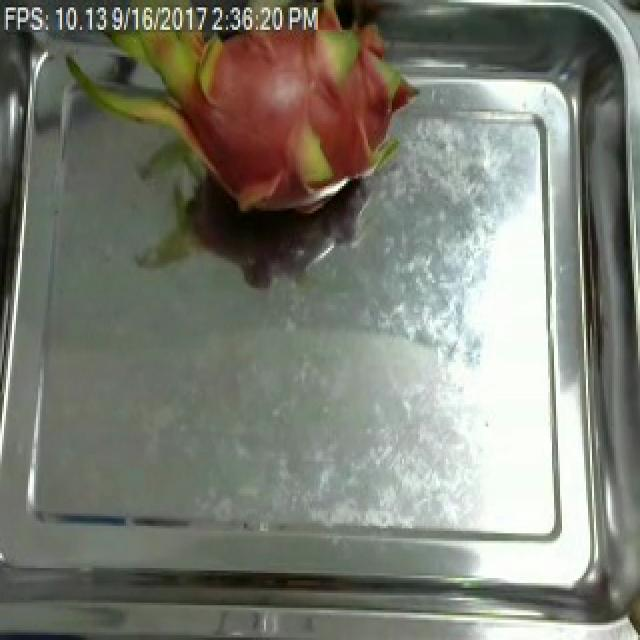fruit: (48, 2, 424, 258)
